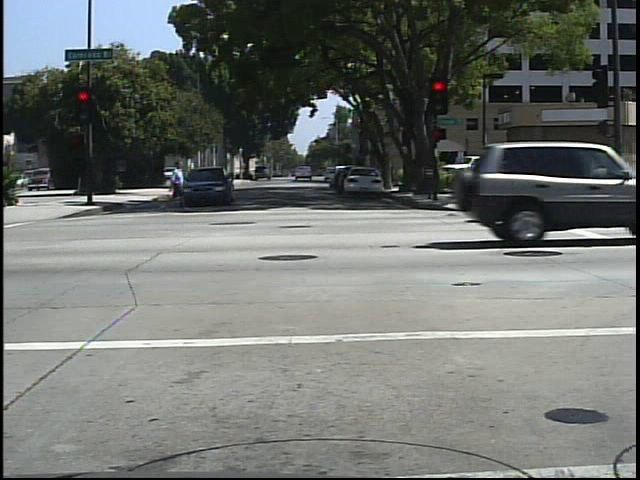person: (587, 143, 618, 210), (161, 155, 190, 213)
